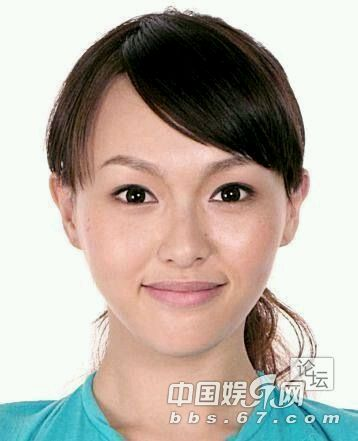unmask: (77, 104, 294, 347)
